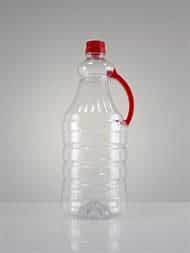plastic bottle: (57, 38, 137, 223)
